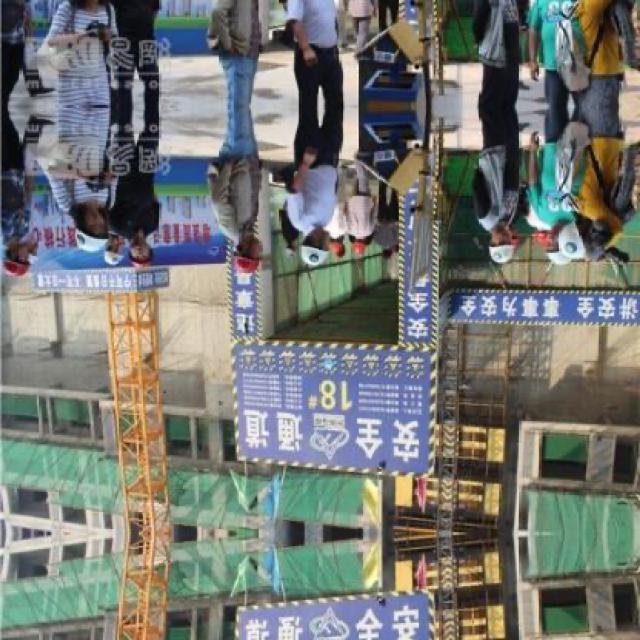con casco: (279, 205, 376, 275), (51, 190, 120, 279), (542, 208, 624, 281), (218, 209, 262, 291), (471, 207, 526, 269)
